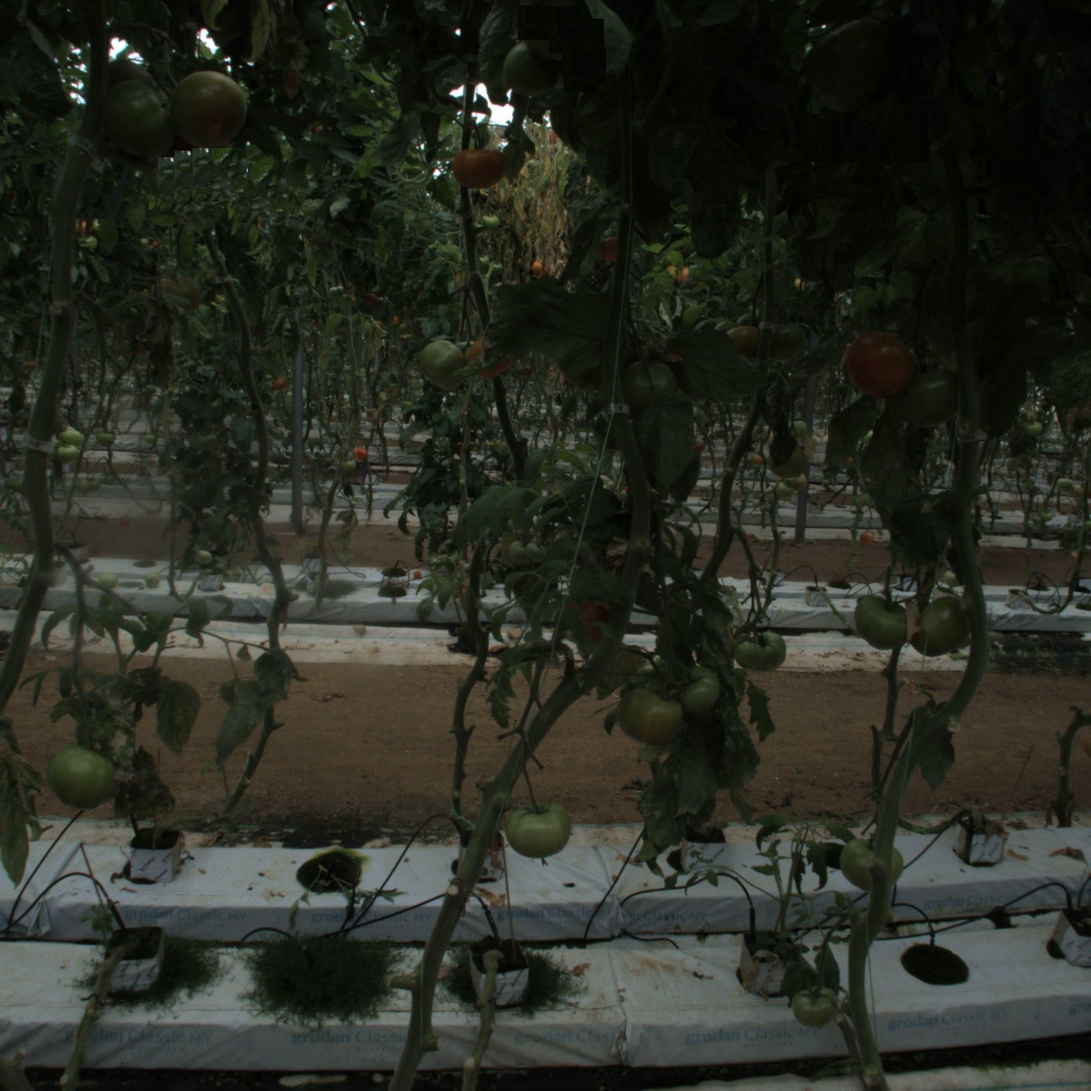['unripe', 'semi-ripe', 'fully-ripe']: (807, 18, 903, 114), (98, 77, 182, 161), (169, 68, 249, 149), (44, 739, 118, 813), (891, 362, 960, 431), (616, 679, 685, 747), (505, 792, 573, 861), (905, 595, 970, 660), (500, 40, 560, 100), (840, 832, 900, 892), (617, 354, 677, 414), (855, 592, 915, 652), (418, 339, 469, 389), (672, 664, 722, 715), (791, 981, 839, 1029), (746, 631, 788, 673)
